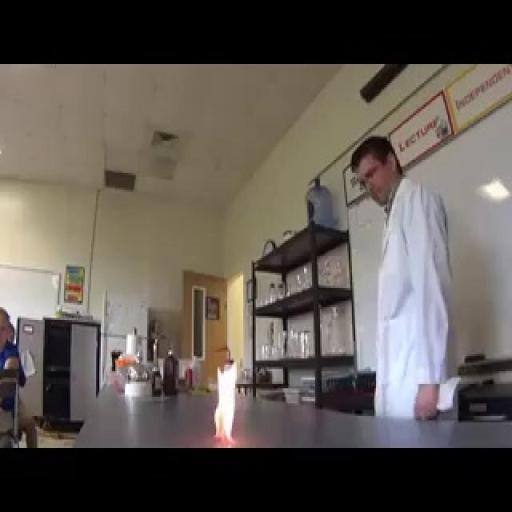smoke: (204, 335, 249, 442)
